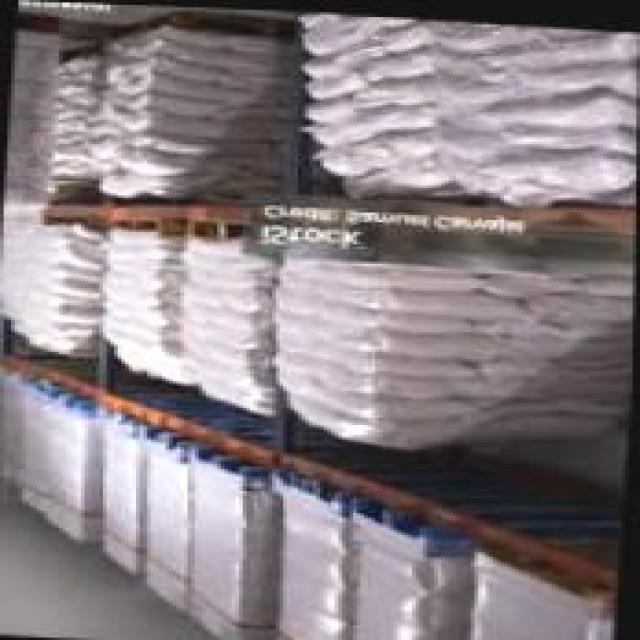gunny_bag: (499, 143, 638, 192), (330, 255, 488, 293), (321, 379, 474, 417), (320, 297, 476, 334), (328, 337, 472, 376), (526, 42, 640, 90), (518, 82, 639, 125), (122, 66, 256, 102), (129, 27, 246, 66), (514, 112, 638, 147), (534, 361, 633, 398), (128, 104, 228, 140), (536, 287, 635, 319), (359, 35, 434, 76), (497, 332, 634, 354), (176, 324, 249, 361), (366, 67, 438, 104), (180, 344, 249, 382), (118, 144, 193, 178), (315, 137, 382, 175), (300, 12, 367, 50), (183, 295, 255, 330), (181, 273, 253, 308), (183, 246, 264, 277), (100, 325, 175, 358), (483, 271, 580, 294), (302, 62, 371, 94), (378, 15, 434, 47), (104, 267, 178, 290), (304, 91, 359, 121), (102, 295, 167, 320), (107, 241, 174, 260)
